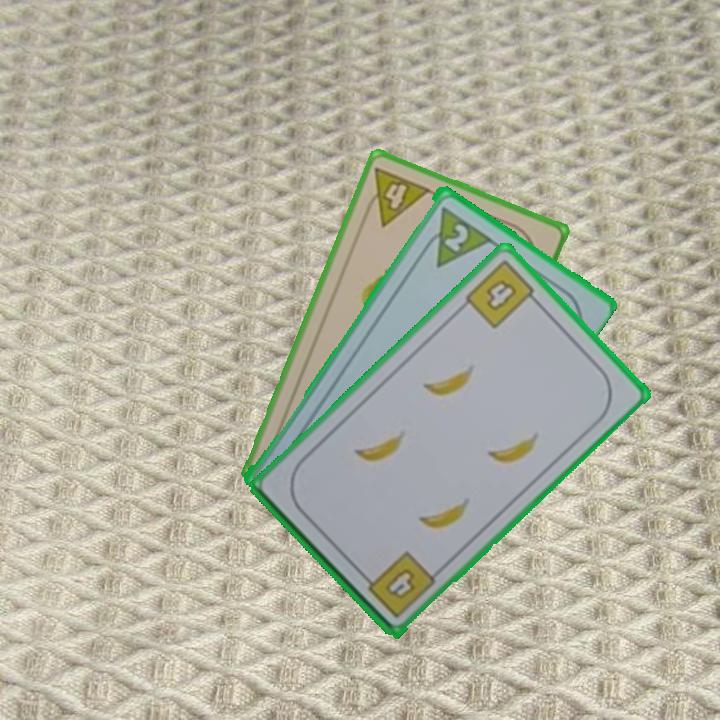2p: (440, 219, 472, 255)
4b: (461, 256, 543, 332), (358, 547, 439, 621)
4p: (358, 163, 434, 229)
